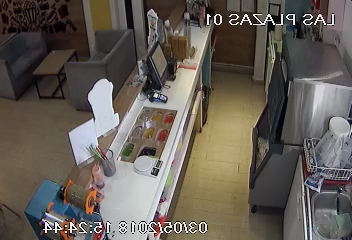libre: (1, 19, 126, 111)
